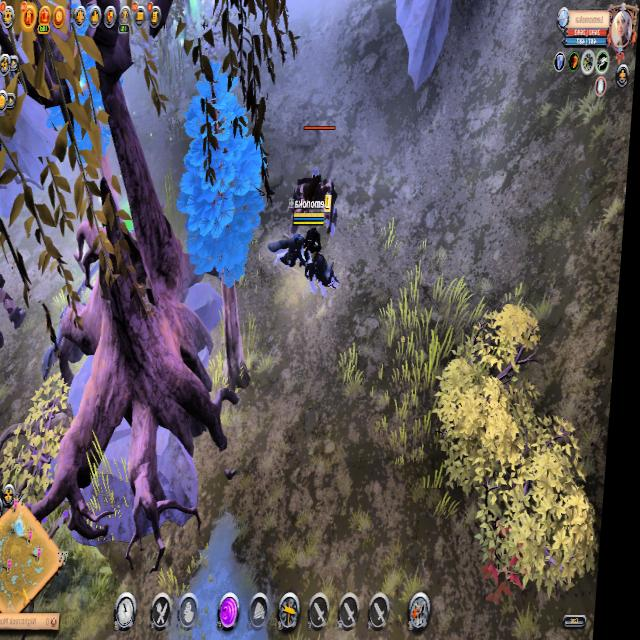wood tier 4: (173, 60, 278, 292)
